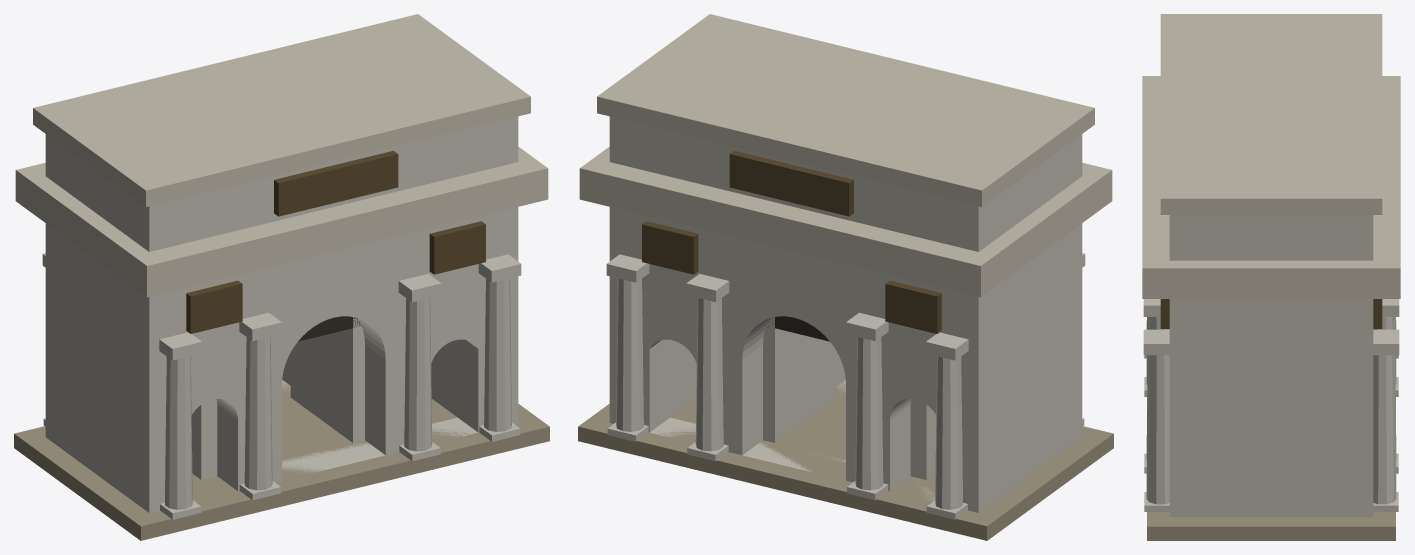
The model's file is marble_arch.glb.
3 renders of one model, left to right at view 1: azimuth 30°, elevation 25°; view 2: azimuth 150°, elevation 25°; view 3: azimuth 270°, elevation 25°, orthographic.
Parts seen in each view (by area): view 1: marble_arch; view 2: marble_arch; view 3: marble_arch.
Boxes of the visible parts, x1=… form: marble_arch: x1=14, y1=14, x2=549, y2=540; marble_arch: x1=578, y1=14, x2=1113, y2=540; marble_arch: x1=1142, y1=14, x2=1400, y2=540.
Size of the model in its own units: 20.5 by 16.4 by 11.4.
